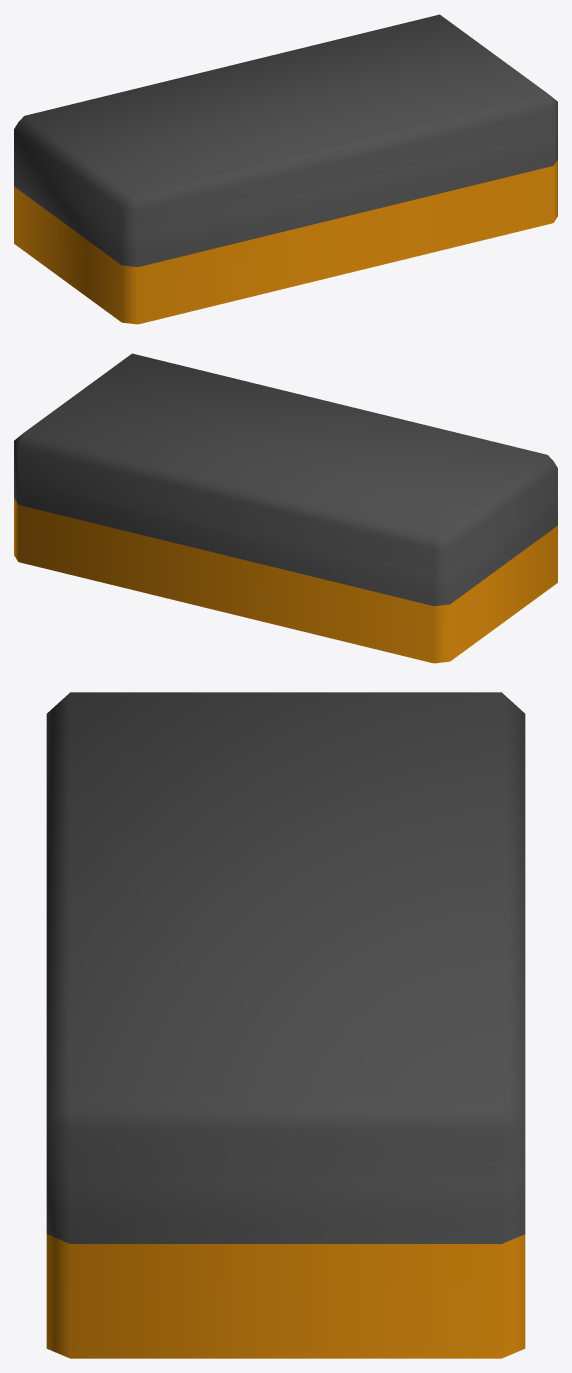
File: RoofAdd_2_C_4.fbx
3 renders of one model, top to bottom at view 1: azimuth 30°, elevation 25°; view 2: azimuth 150°, elevation 25°; view 3: azimuth 270°, elevation 25°, orthographic. The views are drawn at different scales.
Visible parts, largest first — view 1: RoofAdd_2_C_4; view 2: RoofAdd_2_C_4; view 3: RoofAdd_2_C_4.
Part boxes in pixels (box(x1,y1,x2,y2)): RoofAdd_2_C_4: box(14, 14, 557, 324); RoofAdd_2_C_4: box(14, 353, 557, 663); RoofAdd_2_C_4: box(46, 692, 525, 1358).
Size of the model in its own units: 270 by 74.17 by 128.
